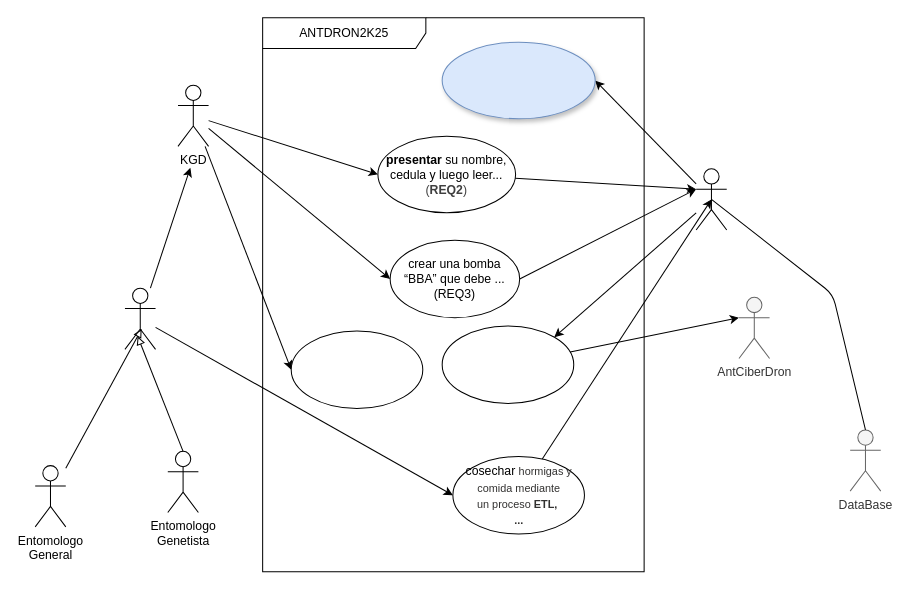
This 910x590 diagram has some shape labels left out. Here are the shapes that lost their labels. From the top down, the centre of each, then its label:
the point at 519,81: Crear un archivo “ApellidoNombre.csv” .... ( REQ1 )
the point at 711,199: SistemaRuso
the point at 140,318: Entomologo
the point at 356,369: crear un tipo de hormiga que derive de ... (REQ4)
the point at 507,364: implementar la inteligencia artificial ... (REQ5)
